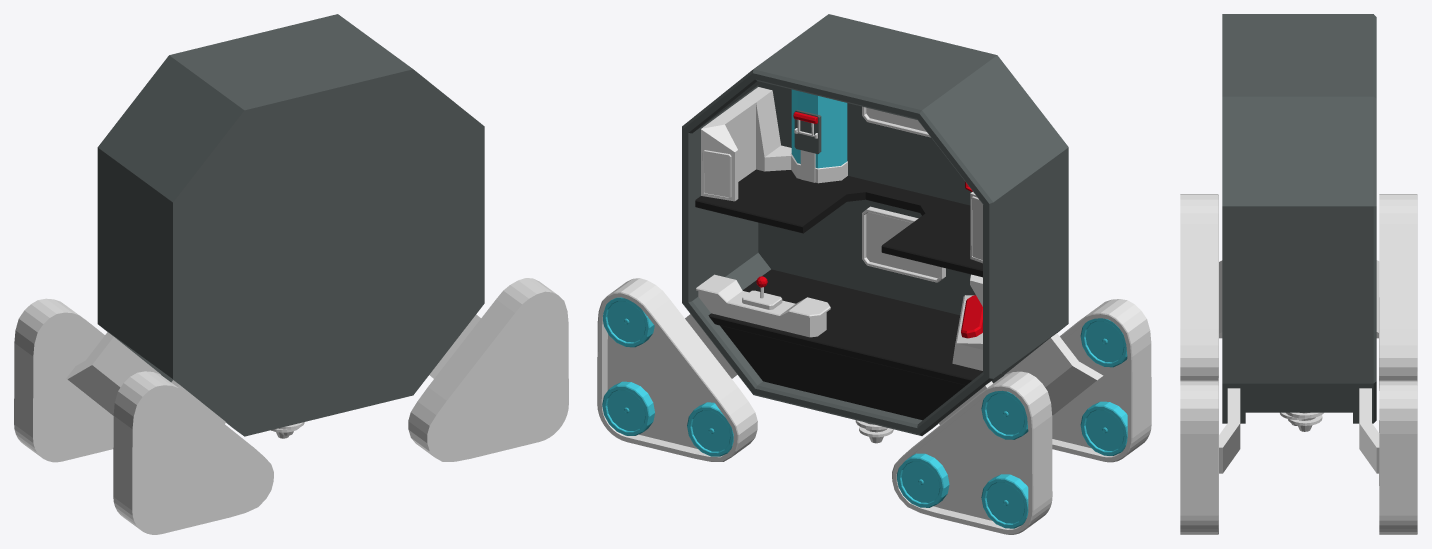
Rendered from Ship2fixed.fbx.
3 views of the same model, side by side, from view 1: azimuth 30°, elevation 25°; view 2: azimuth 150°, elevation 25°; view 3: azimuth 270°, elevation 25° (orthographic).
Visible parts, largest first — view 1: Cube.001, Wheel.007, Wheel.006, Wheel.004, Cube.007; view 2: Cube.001, Wheel.005, Wheel.004, Cube.004, Cube.006, Cube.005, Wheel.006, Cube.022, Cube.014, Cube.008, Cube.021, Cylinder.016 (+15 smaller); view 3: Cube.001, Wheel.004, Wheel.006, Wheel.005, Wheel.007, Cube.009, Cube.003, Cube.008.
Boxes of the visible parts, x1,y1,x2,y2 form: Cube.001: (97,14,484,436); Wheel.007: (408,278,568,461); Wheel.006: (113,371,273,534); Wheel.004: (14,298,113,462); Cube.007: (66,332,160,415); Cube.001: (682,14,1068,435); Wheel.005: (597,278,757,461); Wheel.004: (892,371,1052,534); Cube.004: (708,269,982,385); Cube.006: (695,169,982,277); Cube.005: (720,325,965,420); Wheel.006: (1052,299,1151,462); Cube.022: (701,87,791,201); Cube.014: (696,274,830,337); Cube.008: (1004,333,1103,415); Cube.021: (862,206,945,282); Cylinder.016: (791,89,847,168); Cube.001: (1222,14,1376,423); Wheel.004: (1379,194,1417,390); Wheel.006: (1180,194,1218,381); Wheel.005: (1379,380,1417,534); Wheel.007: (1180,380,1218,534); Cube.009: (1219,388,1240,473); Cube.003: (1359,388,1379,473); Cube.008: (1219,260,1222,338).
Size of the model in its own units: 560 by 470 by 263.
